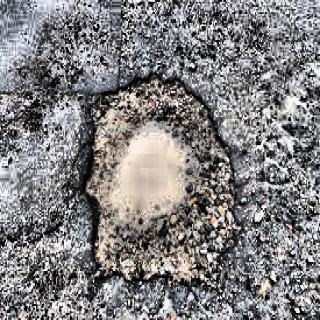pothole: (74, 56, 241, 296)
